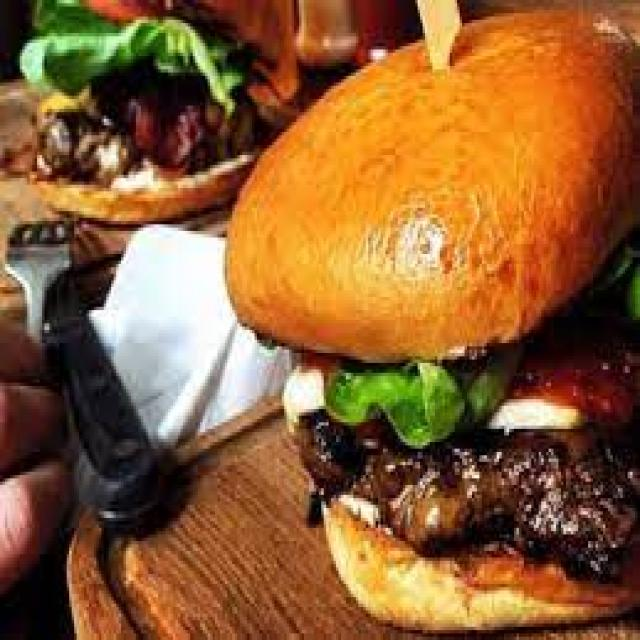Burger: (273, 94, 639, 640)
